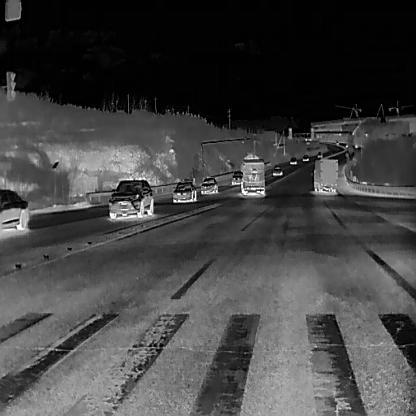car: (107, 177, 154, 218), (238, 150, 264, 195), (0, 189, 28, 229), (309, 156, 338, 193), (171, 179, 196, 202), (199, 176, 218, 194), (230, 169, 243, 185), (271, 163, 282, 175), (288, 156, 296, 163), (301, 153, 308, 160), (316, 149, 322, 157), (353, 139, 358, 147), (335, 140, 339, 145), (327, 149, 331, 154), (344, 142, 348, 147)
light: (3, 67, 19, 106)
